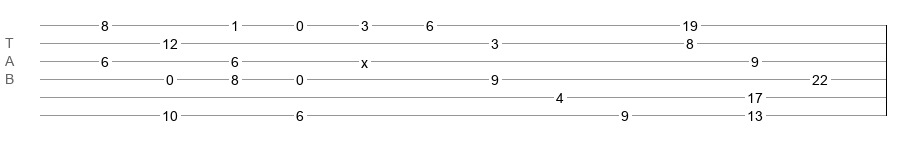0: (166, 72, 174, 82), (296, 18, 304, 28), (296, 72, 304, 82)
1: (231, 18, 239, 28)
10: (162, 108, 178, 118)
12: (162, 36, 178, 46)
13: (747, 108, 763, 118)
17: (747, 90, 763, 100)
19: (682, 18, 698, 28)
22: (812, 72, 828, 82)
3: (361, 18, 369, 28), (491, 36, 499, 46)
4: (556, 90, 564, 100)
6: (101, 54, 109, 64), (231, 54, 239, 64), (296, 108, 304, 118), (426, 18, 434, 28)
8: (101, 18, 109, 28), (231, 72, 239, 82), (686, 36, 694, 46)
9: (491, 72, 499, 82), (621, 108, 629, 118), (751, 54, 759, 64)
x: (361, 55, 368, 63)
